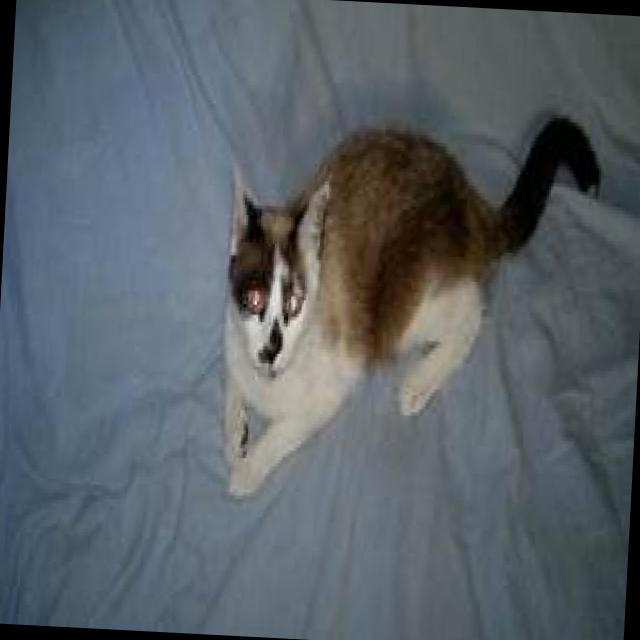cat: (212, 96, 606, 518)
